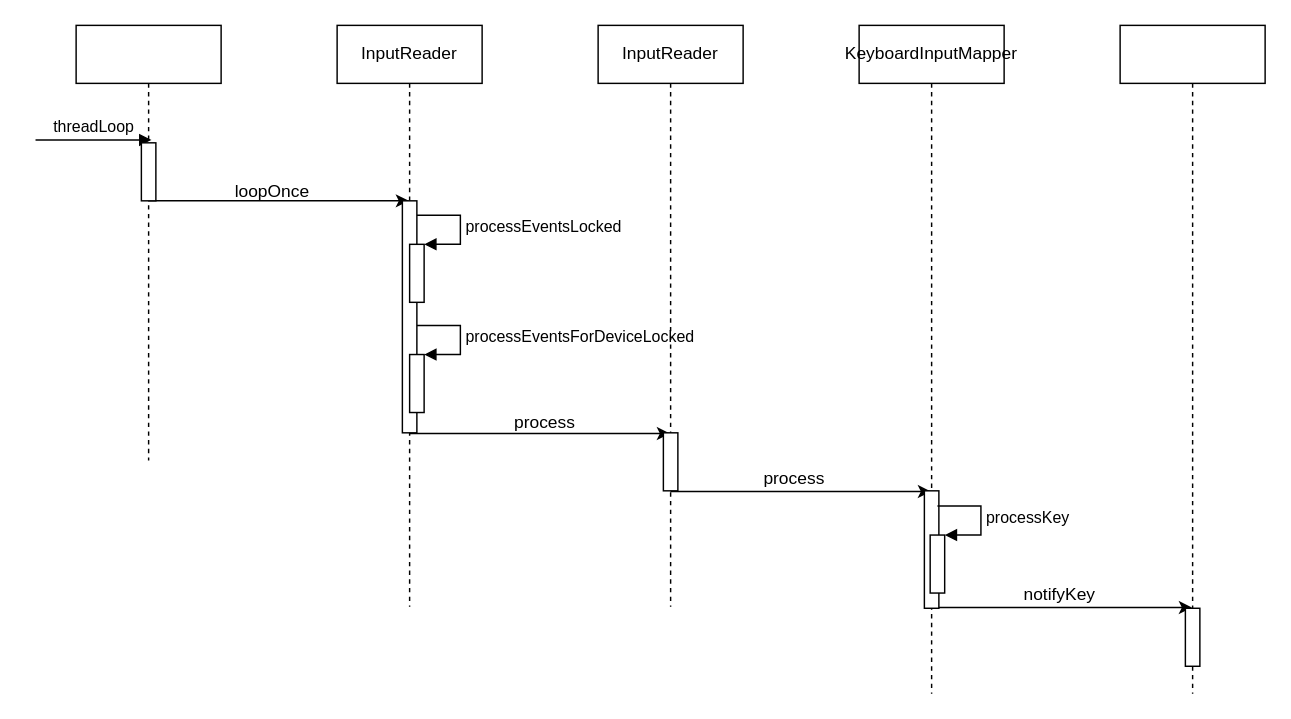
Image size: 1291x719. Some labels were removed from this diagram. Each missing label, with the box of its shape:
InputDispatcher: (1119, 24, 1265, 694)
InputReaderThread: (75, 24, 221, 460)
